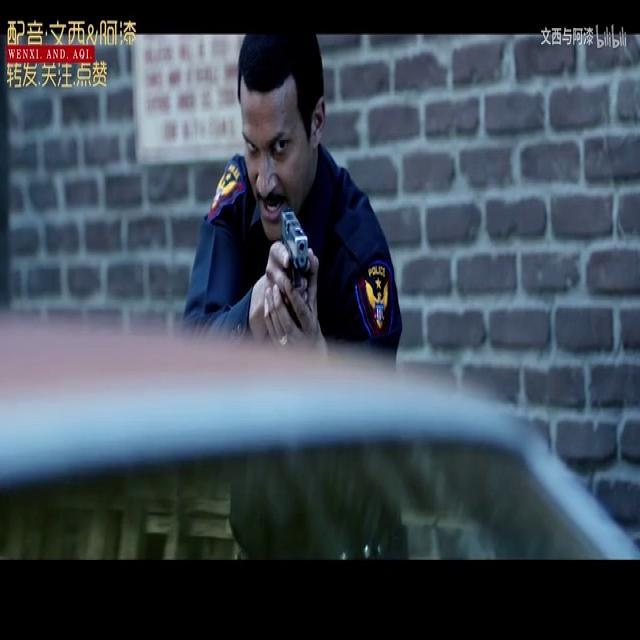gun-knife-thesis - v11 Yolov5 augmented: (271, 209, 315, 319)
